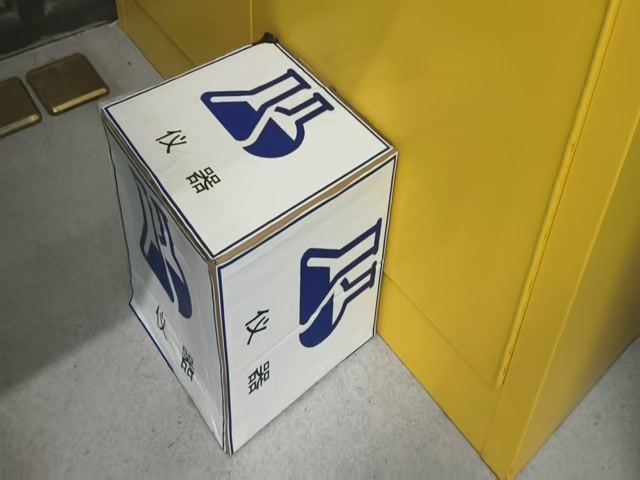Cube_ins: (89, 38, 400, 264)
